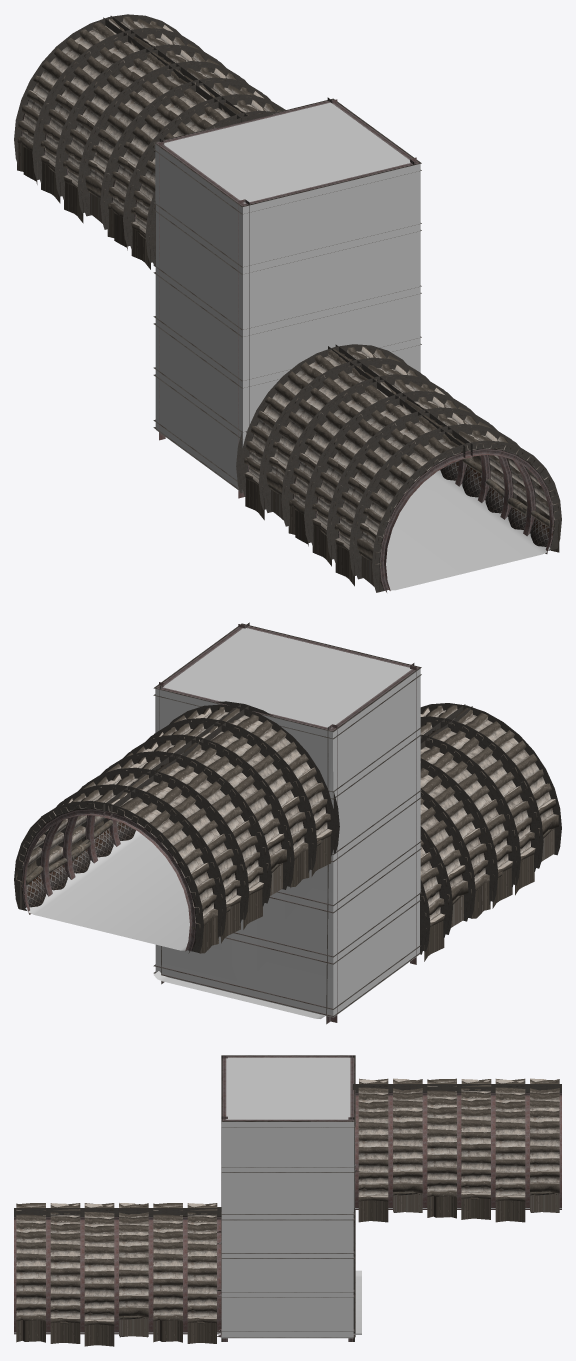
File: tunnel_tile_7.dae
The picture shows the model from 3 angles, top to bottom: view 1: azimuth 30°, elevation 25°; view 2: azimuth 150°, elevation 25°; view 3: azimuth 270°, elevation 25°; orthographic projection. The views are drawn at different scales.
Visible parts, largest first — view 1: Ground, Walls, Chainlink, Wood; view 2: Walls, Ground, Chainlink, Wood; view 3: Walls, Ground.
Boxes of the visible parts, left/top/right/bottom form: Ground: left=155, top=102, right=550, bottom=590; Walls: left=14, top=14, right=561, bottom=592; Chainlink: left=385, top=461, right=554, bottom=592; Wood: left=47, top=164, right=553, bottom=566; Walls: left=14, top=622, right=561, bottom=1024; Ground: left=25, top=628, right=420, bottom=1018; Chainlink: left=21, top=821, right=552, bottom=953; Wood: left=21, top=820, right=551, bottom=929; Walls: left=14, top=1055, right=561, bottom=1346; Ground: left=14, top=1057, right=561, bottom=1338.
Size of the model in its own units: 6.06 by 20 by 9.21.
